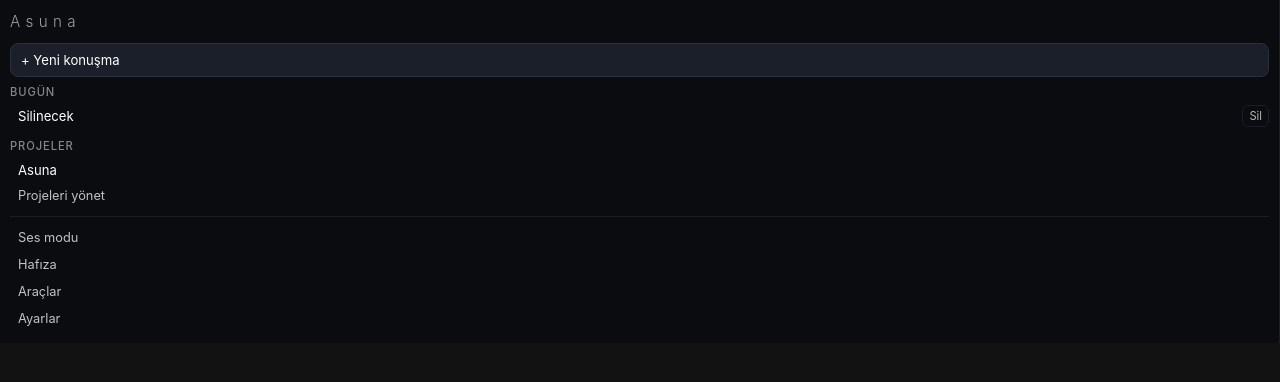
Test: Sidebar › metin konusmasinin onayi ses uyarisini kullanmaz
The width and height of the screenshot is (1280, 382).
What coordinates should you click on to do the following:
click the button with aria-label "Sil: Silinecek"
I would click on:
 (1256, 116)
Its box is [1242,105,1269,127].
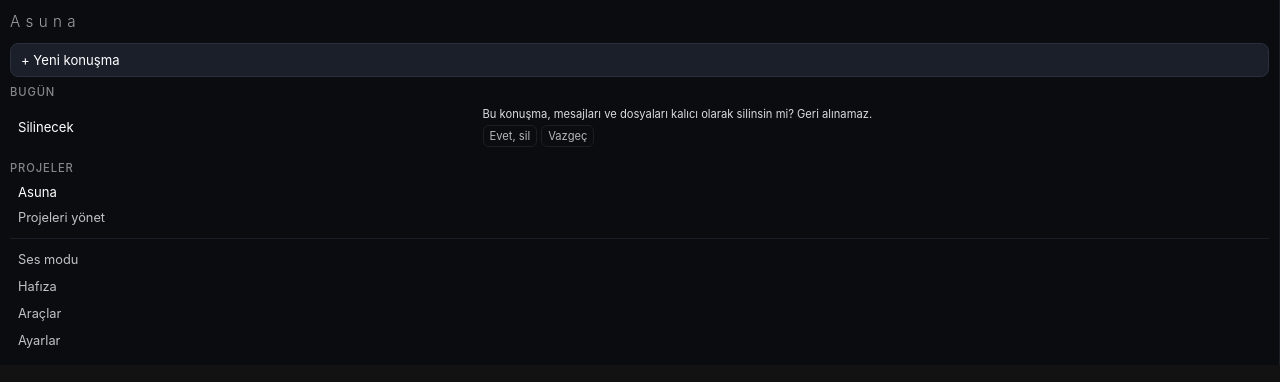
expect the element named "Silinecek silme onayı" does not show "döküm": met, box [482,107,872,147]
expect the element named "Silinecek silme onayı" shows "kalıcı olarak silinsin mi": met, box [482,107,872,121]
